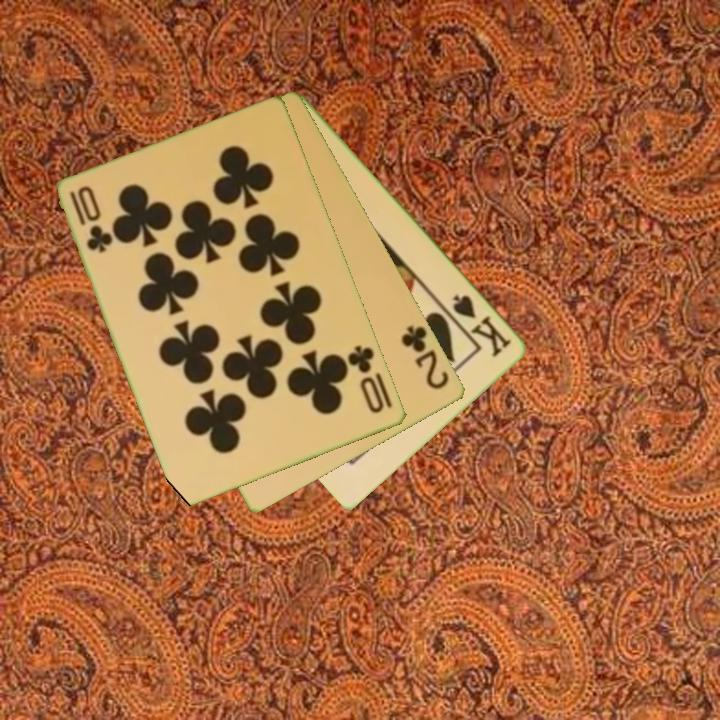10c: (66, 182, 115, 256), (344, 342, 388, 417)
2c: (398, 322, 453, 393)
Ks: (449, 291, 516, 360)
